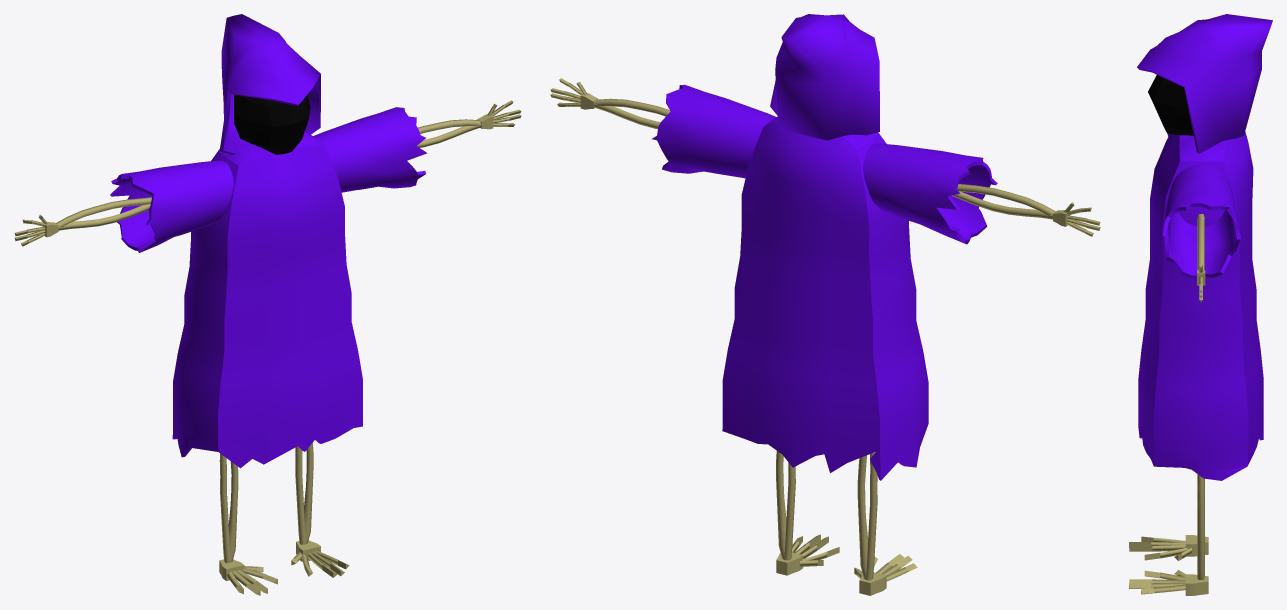
Rendered from grim.fbx.
3 renders of one model, left to right at view 1: azimuth 30°, elevation 25°; view 2: azimuth 150°, elevation 25°; view 3: azimuth 270°, elevation 25°, orthographic. The views are drawn at different scales.
Visible parts, largest first — view 1: hood, dedo1, head; view 2: hood, dedo1; view 3: hood, dedo1, head.
Part boxes in pixels (x1,y1,x2,y2): hood: (110, 14, 427, 468); dedo1: (14, 100, 521, 595); head: (234, 94, 310, 154); hood: (652, 14, 997, 480); dedo1: (550, 78, 1100, 595); hood: (1137, 14, 1272, 480); dedo1: (1129, 214, 1208, 595); head: (1148, 75, 1193, 135).
Size of the model in its own units: 61.94 by 61.36 by 14.56.
